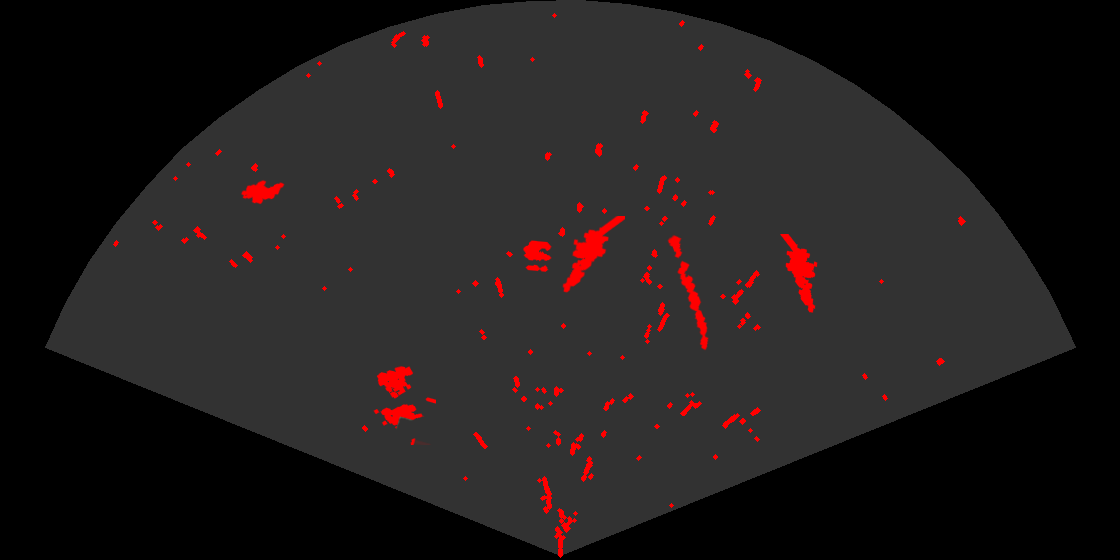AUV: (239, 178, 286, 206)
ball: (522, 239, 553, 273)
cage: (372, 364, 436, 445)
chain: (666, 233, 710, 352)
frogman: (561, 216, 625, 294), (779, 234, 819, 314)
